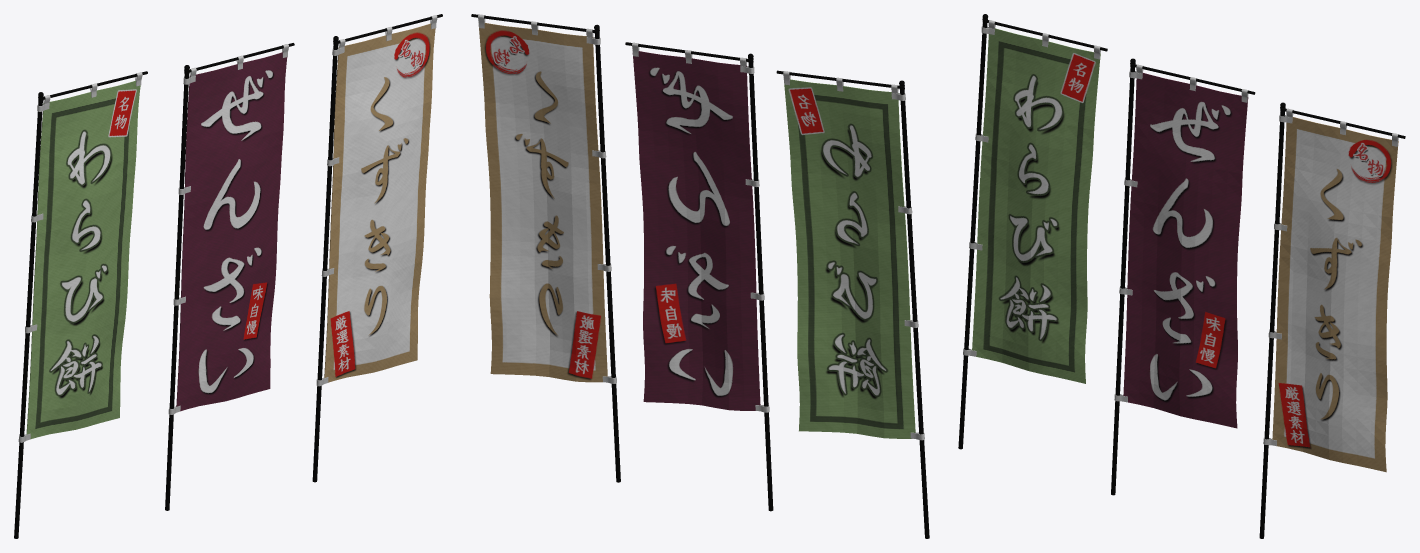
Rendered from Banners.fbx.
The picture shows the model from 3 angles, left to right: view 1: azimuth 30°, elevation 25°; view 2: azimuth 150°, elevation 25°; view 3: azimuth 330°, elevation 25°; orthographic projection. The views are drawn at different scales.
Visible parts, largest first — view 1: Banner (Zenzai).Shape, Banner (Warabi mochi).Shape, Banner (Kuzukiri).Shape; view 2: Banner (Kuzukiri).Shape, Banner (Warabi mochi).Shape, Banner (Zenzai).Shape; view 3: Banner (Kuzukiri).Shape, Banner (Warabi mochi).Shape, Banner (Zenzai).Shape.
Part boxes in pixels (x1,y1,x2,y2): Banner (Zenzai).Shape: [165, 43, 294, 510]; Banner (Warabi mochi).Shape: [14, 71, 147, 538]; Banner (Kuzukiri).Shape: [312, 14, 442, 482]; Banner (Kuzukiri).Shape: [471, 14, 620, 482]; Banner (Warabi mochi).Shape: [776, 70, 929, 538]; Banner (Zenzai).Shape: [625, 42, 773, 511]; Banner (Kuzukiri).Shape: [1259, 102, 1405, 538]; Banner (Warabi mochi).Shape: [958, 14, 1107, 449]; Banner (Zenzai).Shape: [1111, 58, 1255, 495].
Size of the model in its own units: 245 by 245 by 13.42.
Materials: 6 (6 with a texture image).
